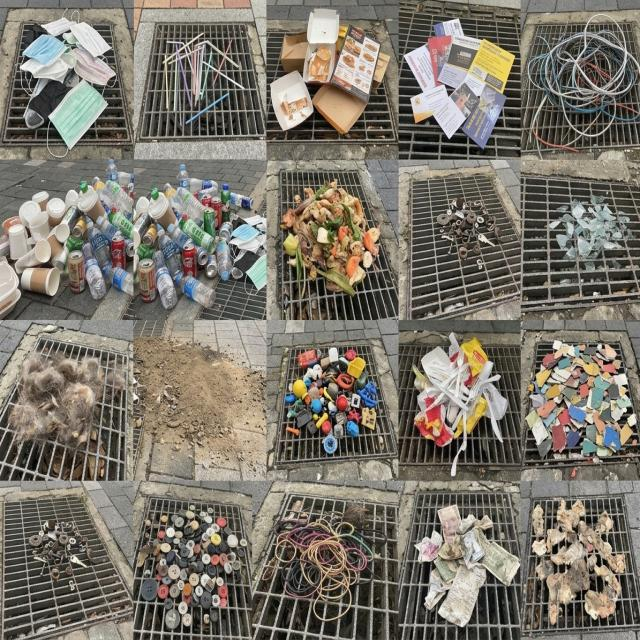drain_area: (3, 497, 132, 639), (399, 12, 521, 159), (400, 495, 518, 639), (410, 175, 522, 321), (521, 179, 639, 311), (141, 25, 266, 138), (267, 32, 395, 140), (277, 346, 395, 461), (541, 498, 639, 629), (282, 226, 399, 320), (398, 346, 463, 464), (134, 572, 250, 638), (457, 348, 520, 465), (78, 24, 130, 143), (281, 171, 375, 232), (3, 24, 49, 144), (1, 388, 60, 480), (92, 391, 127, 480), (198, 276, 267, 320), (478, 568, 520, 638), (523, 424, 586, 462), (567, 115, 639, 148), (37, 340, 127, 365), (537, 99, 581, 146), (196, 503, 242, 543), (148, 500, 188, 541), (285, 348, 314, 397), (297, 604, 339, 637), (529, 26, 565, 61), (524, 80, 547, 133), (521, 78, 537, 151), (565, 106, 601, 132), (533, 344, 558, 381), (533, 500, 560, 534), (616, 74, 639, 112), (587, 24, 624, 47), (529, 518, 544, 566), (619, 24, 638, 61), (133, 413, 145, 465), (585, 112, 612, 134), (134, 320, 165, 339), (306, 498, 345, 512), (204, 44, 223, 70), (620, 425, 639, 450), (609, 344, 624, 374), (560, 25, 586, 42), (544, 539, 565, 560), (531, 58, 545, 87), (48, 122, 65, 145), (618, 406, 633, 429), (121, 295, 134, 320), (616, 106, 638, 119), (596, 55, 610, 75), (538, 140, 564, 150), (306, 84, 322, 99), (616, 74, 628, 92), (599, 454, 625, 462), (22, 72, 31, 94), (246, 276, 257, 293), (258, 197, 266, 218), (201, 65, 207, 93), (350, 584, 357, 607), (561, 71, 571, 86), (622, 385, 630, 400), (30, 77, 38, 91), (604, 105, 614, 116), (566, 499, 577, 509), (94, 84, 104, 94), (441, 347, 449, 357), (319, 348, 330, 354), (632, 439, 639, 446), (27, 73, 31, 84)
drain_full: (253, 496, 398, 638), (3, 496, 132, 639), (0, 338, 128, 481), (399, 12, 520, 160), (399, 494, 520, 639), (281, 172, 399, 320), (133, 499, 252, 638), (410, 175, 521, 321), (1, 23, 132, 145), (521, 178, 639, 311), (523, 498, 639, 632), (521, 24, 639, 152), (139, 24, 266, 138), (399, 346, 520, 464), (522, 344, 639, 466), (267, 31, 396, 141), (276, 345, 395, 462), (196, 196, 267, 320), (133, 320, 165, 468), (121, 295, 134, 320)
